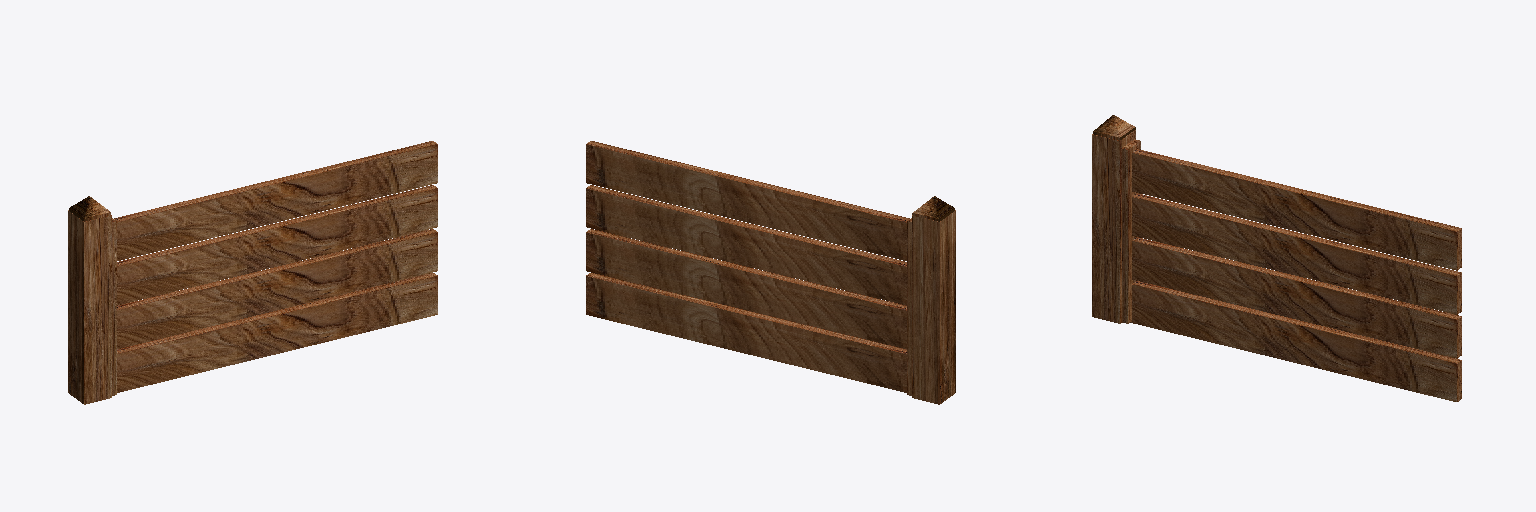
3 views of the same model, side by side, from view 1: azimuth 30°, elevation 25°; view 2: azimuth 150°, elevation 25°; view 3: azimuth 330°, elevation 25° (orthographic).
Parts seen in each view (by area): view 1: Cube.003; view 2: Cube.003; view 3: Cube.003.
Part boxes in pixels (left/top/right/bottom): Cube.003: left=68, top=141, right=437, bottom=404; Cube.003: left=586, top=141, right=955, bottom=404; Cube.003: left=1092, top=115, right=1461, bottom=401.
Bounding box in the file's own units: 9.29 × 4.98 × 0.7184.
Materials: 1 (1 with a texture image).